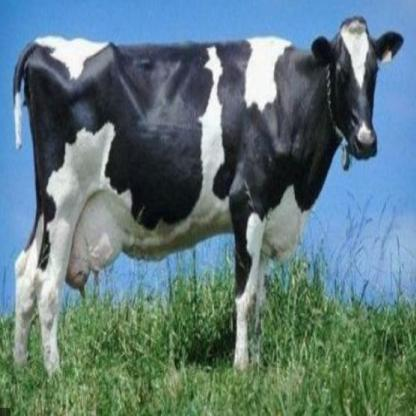cow: (14, 26, 403, 377)
